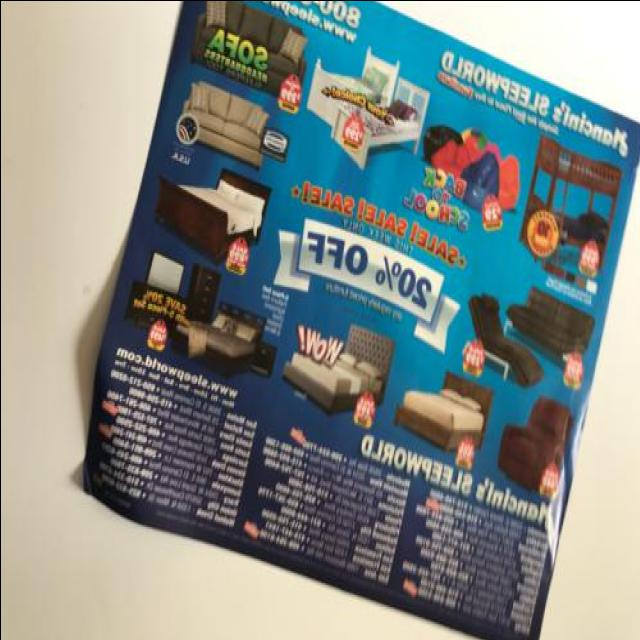kertas: (81, 0, 640, 640)
